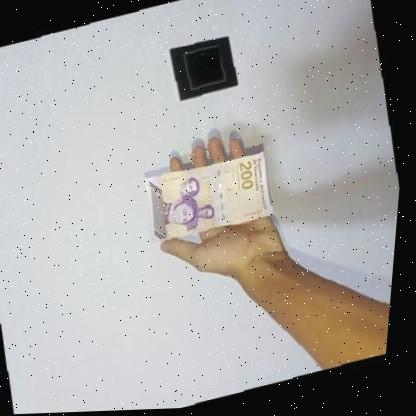vef_front: (139, 149, 281, 247)
